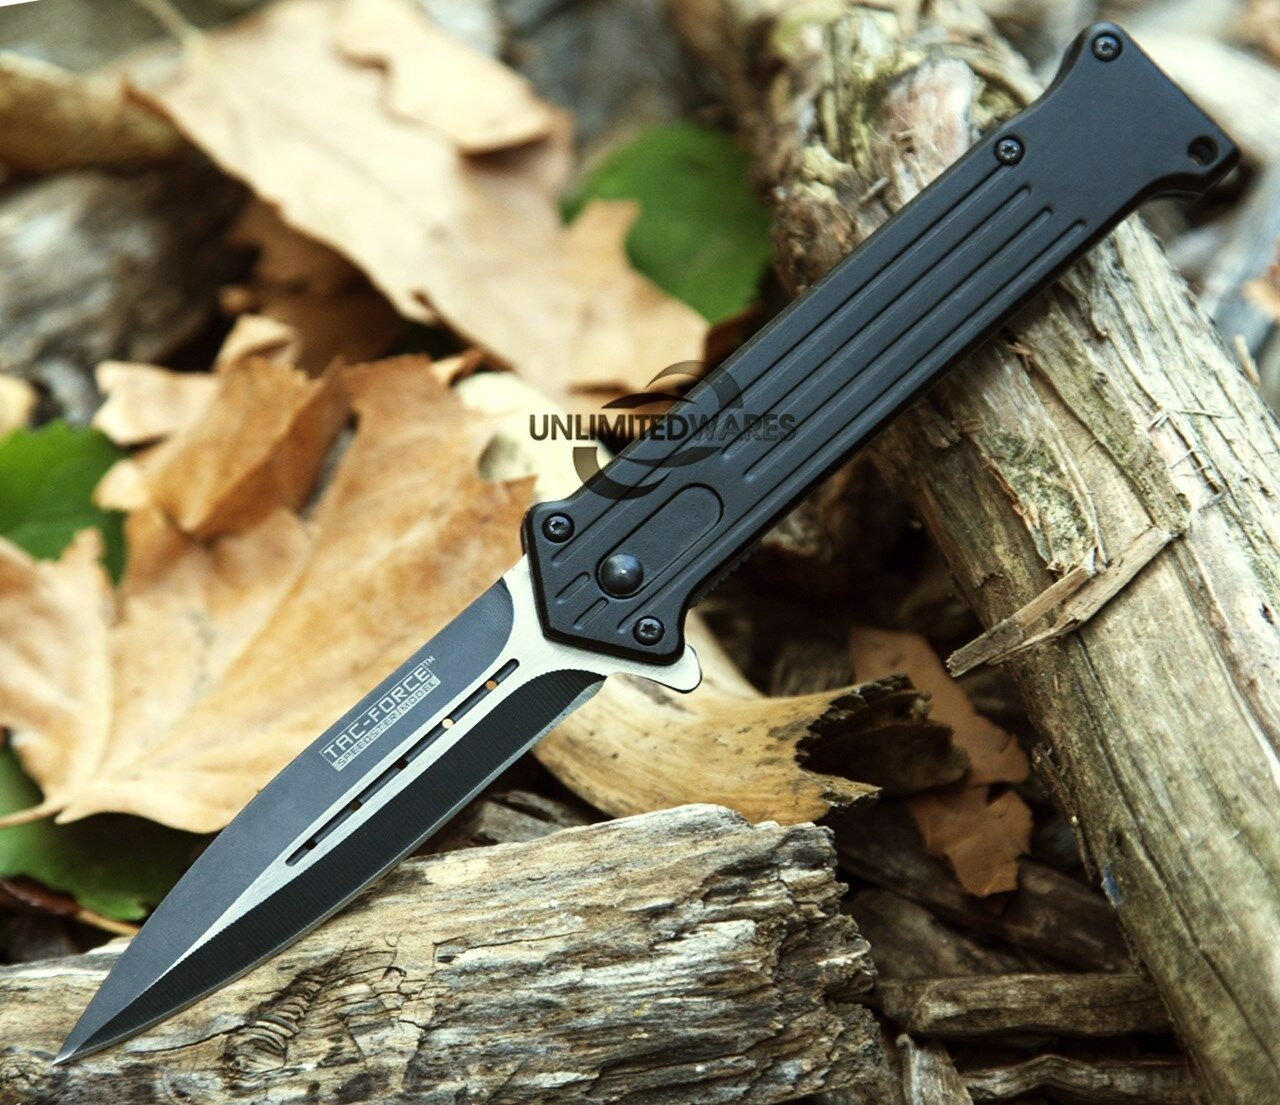knief: (58, 25, 1241, 1082)
